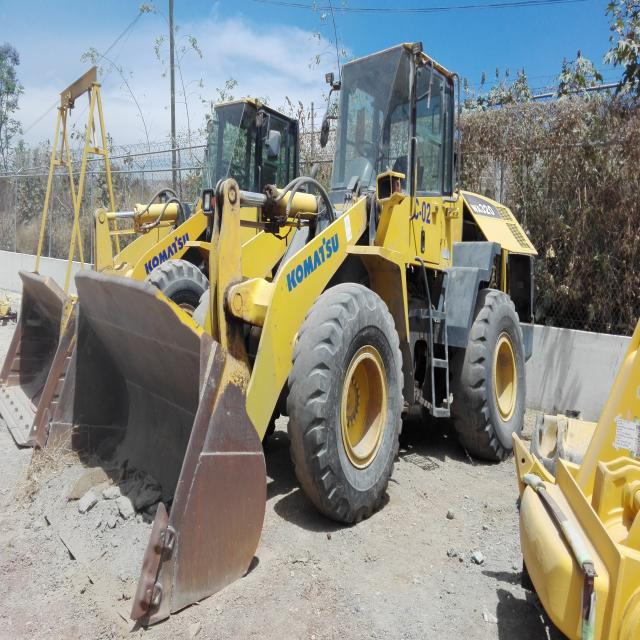buldozerpayloadergrader: (50, 54, 537, 556)
